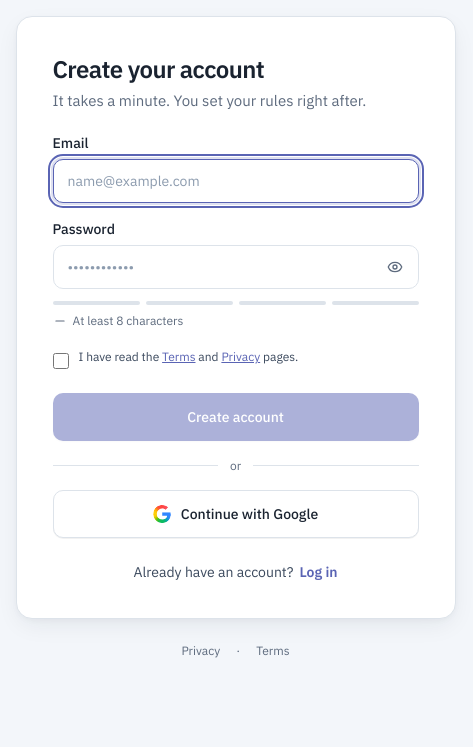
PIN: signup flow (client-side, no backend call) › PIN: terms not accepted -> submit rejected with termsRequired, nothing stored
Type "new.user@autowallet.dev" into the field with placeholder "name@example.com" at [236, 181], box [52,159,418,203]
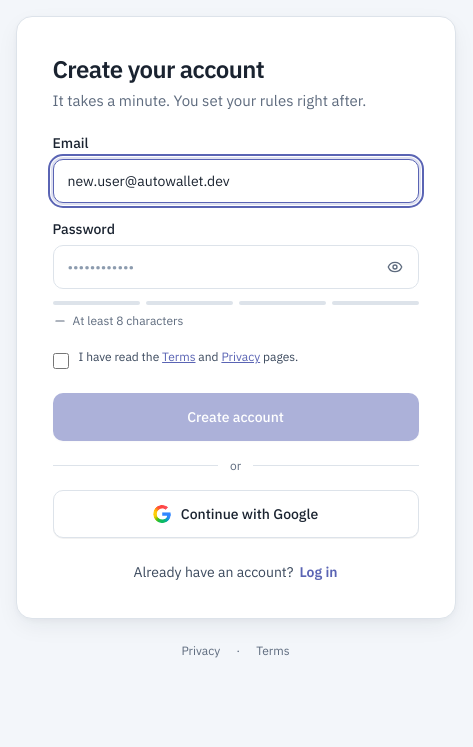
Type "SuperSecret1337!" into the password field with placeholder "••••••••••••" at [236, 267], box [52,245,418,289]
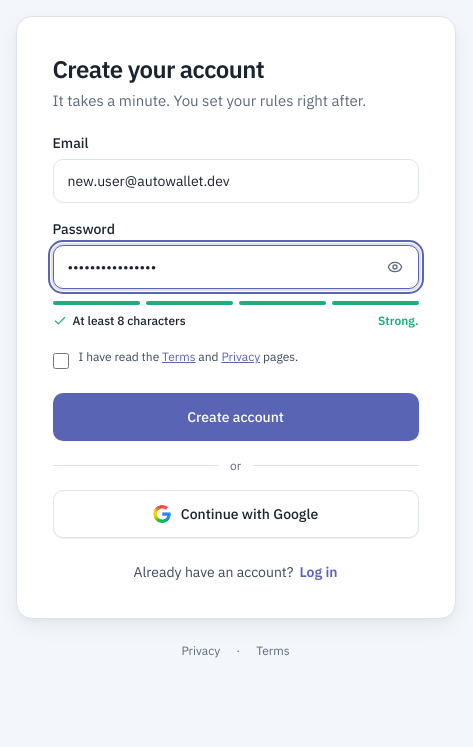
Click the button "Create account" at [236, 417], box [52,393,418,441]
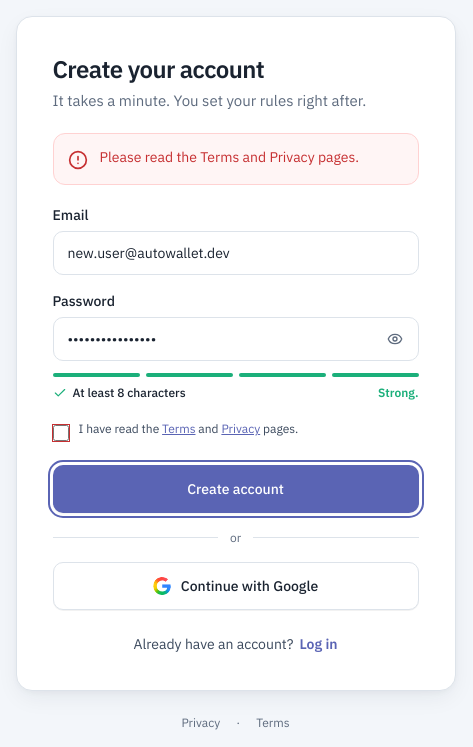
expect the text "Please read the Terms and Privacy pages." is shown: met, box [100,148,404,168]
